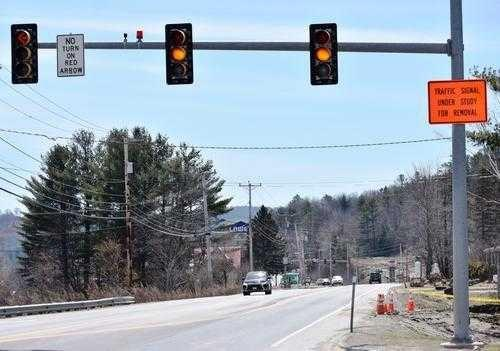red: (11, 20, 40, 84)
